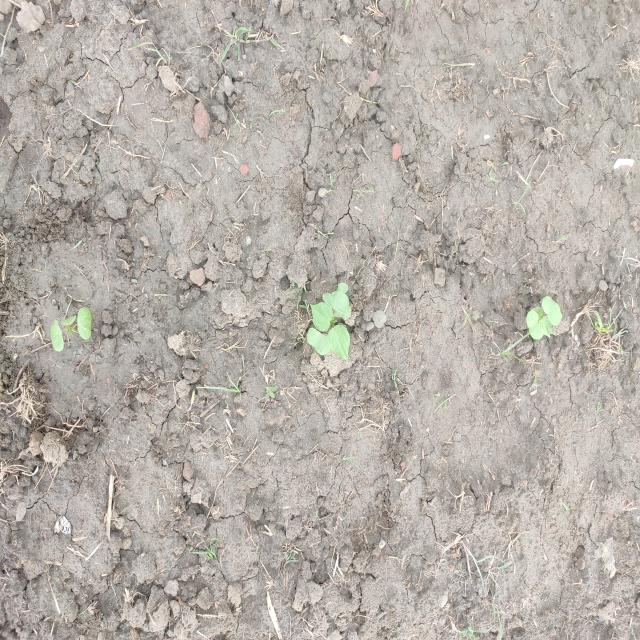seedling: (327, 325, 350, 360), (306, 328, 331, 355), (310, 302, 333, 331), (322, 292, 350, 314), (542, 296, 562, 325), (526, 311, 543, 340), (77, 308, 92, 339), (50, 320, 64, 352), (540, 314, 552, 337), (531, 307, 544, 319), (62, 316, 76, 327)
